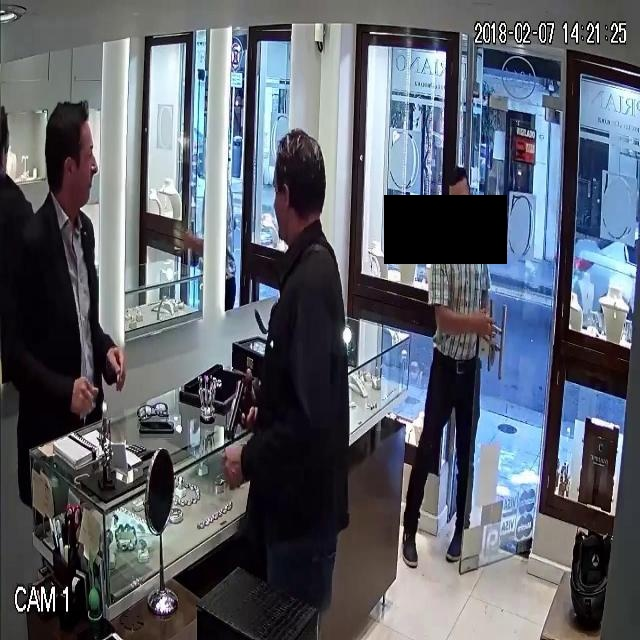gun: (212, 357, 265, 452)
